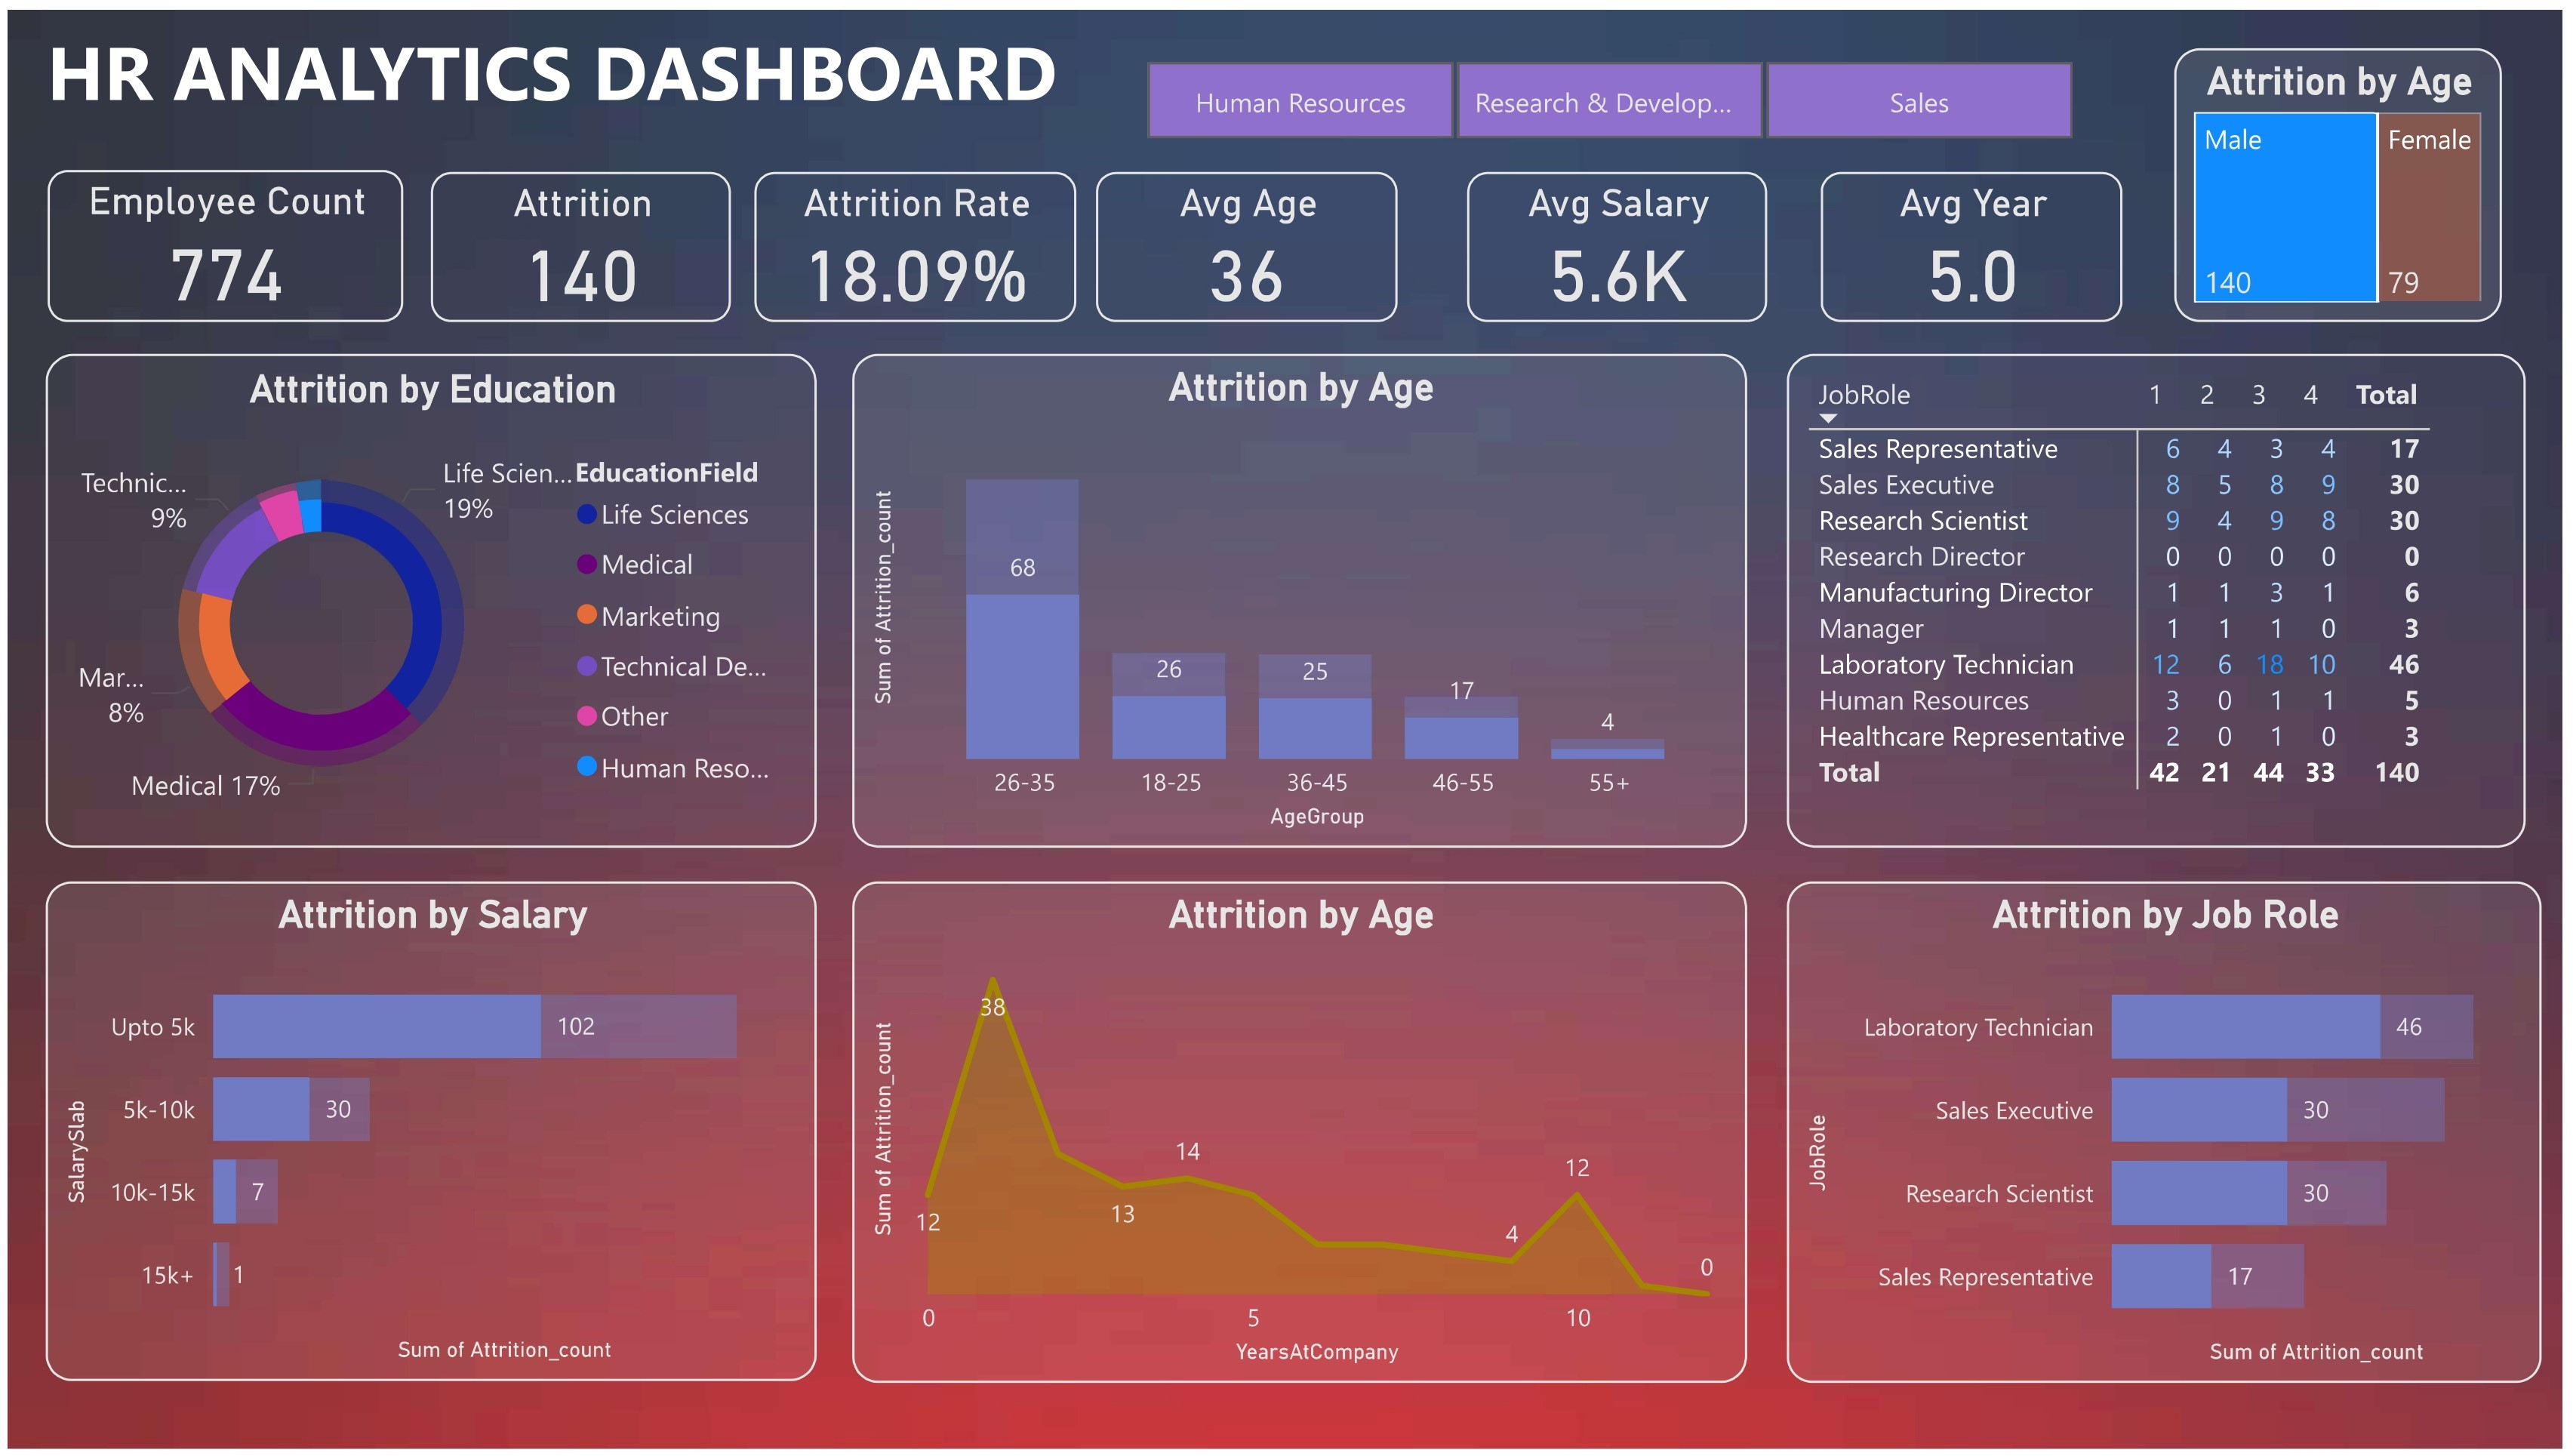

What the dashboard file says about the page in this screenshot:
{"tool":"powerbi","page":{"name":"Page 1","canvas":[1280,720],"ordinal":0},"visuals":[{"type":"card","title":"Avg Age","fields":{"Values":["Avg(HR_Analytics.Age)"]},"box":[544.8,81,150.9,75.5],"z":0},{"type":"card","title":"Attrition Rate","fields":{"Values":["HR_Analytics.AttritionRate"]},"box":[374,81.1,161,75.1],"z":1000},{"type":"card","title":"Attrition","fields":{"Values":["Sum(HR_Analytics.Attrition_count)"]},"box":[211.8,81.1,150.1,75.1],"z":2000},{"type":"card","title":"Avg Salary","fields":{"Values":["Avg(HR_Analytics.MonthlyIncome)"]},"box":[731.4,81,149.6,75.5],"z":3000},{"type":"card","title":"Avg Year","fields":{"Values":["Avg(HR_Analytics.YearsAtCompany)"]},"box":[908.4,81,150.9,75.5],"z":4000},{"type":"donutChart","title":"Attrition by Education","fields":{"Category":["HR_Analytics.EducationField"],"Y":["Sum(HR_Analytics.Attrition_count)"]},"box":[19.2,171.5,385.6,247],"z":5000},{"type":"columnChart","title":"Attrition by Age","fields":{"Category":["HR_Analytics.AgeGroup"],"Y":["Sum(HR_Analytics.Attrition_count)"]},"box":[422.6,171.5,448.7,247],"z":6000},{"type":"pivotTable","fields":{"Rows":["HR_Analytics.JobRole"],"Values":["Sum(HR_Analytics.Attrition_count)"],"Columns":["HR_Analytics.JobSatisfaction"]},"box":[890.6,171.5,370.5,247],"z":7000},{"type":"barChart","title":"Attrition by Salary","fields":{"Category":["HR_Analytics.SalarySlab"],"Y":["Sum(HR_Analytics.Attrition_count)"]},"box":[19.2,436.4,385.6,249.7],"z":8000},{"type":"barChart","title":"Attrition by Job Role","fields":{"Category":["HR_Analytics.JobRole"],"Y":["Sum(HR_Analytics.Attrition_count)"]},"box":[890.6,436.4,378.7,251.1],"z":9000},{"type":"areaChart","title":"Attrition by Age","fields":{"Category":["HR_Analytics.YearsAtCompany"],"Y":["Sum(HR_Analytics.Attrition_count)"]},"box":[422.6,436.4,448.7,251.1],"z":10000},{"type":"treemap","title":"Attrition by Age","fields":{"Group":["HR_Analytics.Gender"],"Values":["Sum(HR_Analytics.Attrition_count)"]},"box":[1085.4,19.2,163.3,137.2],"z":11000},{"type":"slicer","fields":{"Values":["HR_Analytics.Department"]},"box":[544.8,19.2,513.2,52.1],"z":12000},{"type":"textbox","box":[9.6,0,525.6,59],"z":13000},{"type":"card","title":"Employee Count","fields":{"Values":["CountNonNull(HR_Analytics.EmpID)"]},"box":[20,80,178,76],"z":14000}]}

Visuals, with their boxes in screenshot pixels (x1, y1, x2, y2), scaled from the page's 1280x720 canvas onto the 2573x1456 screenshot:
"Avg Age" card: pyautogui.locateOnScreen(1095, 164, 1399, 316)
"Attrition Rate" card: pyautogui.locateOnScreen(752, 164, 1076, 316)
"Attrition" card: pyautogui.locateOnScreen(426, 164, 728, 316)
"Avg Salary" card: pyautogui.locateOnScreen(1470, 164, 1771, 316)
"Avg Year" card: pyautogui.locateOnScreen(1826, 164, 2129, 316)
"Attrition by Education" donutChart: pyautogui.locateOnScreen(38, 346, 814, 846)
"Attrition by Age" columnChart: pyautogui.locateOnScreen(850, 346, 1752, 846)
pivotTable - HR_Analytics.JobRole x Sum(HR_Analytics.Attrition_count): pyautogui.locateOnScreen(1790, 346, 2535, 846)
"Attrition by Salary" barChart: pyautogui.locateOnScreen(38, 882, 814, 1387)
"Attrition by Job Role" barChart: pyautogui.locateOnScreen(1790, 882, 2552, 1390)
"Attrition by Age" areaChart: pyautogui.locateOnScreen(850, 882, 1752, 1390)
"Attrition by Age" treemap: pyautogui.locateOnScreen(2182, 38, 2510, 316)
slicer - HR_Analytics.Department: pyautogui.locateOnScreen(1095, 38, 2127, 144)
textbox: pyautogui.locateOnScreen(20, 0, 1076, 119)
"Employee Count" card: pyautogui.locateOnScreen(40, 162, 398, 316)
